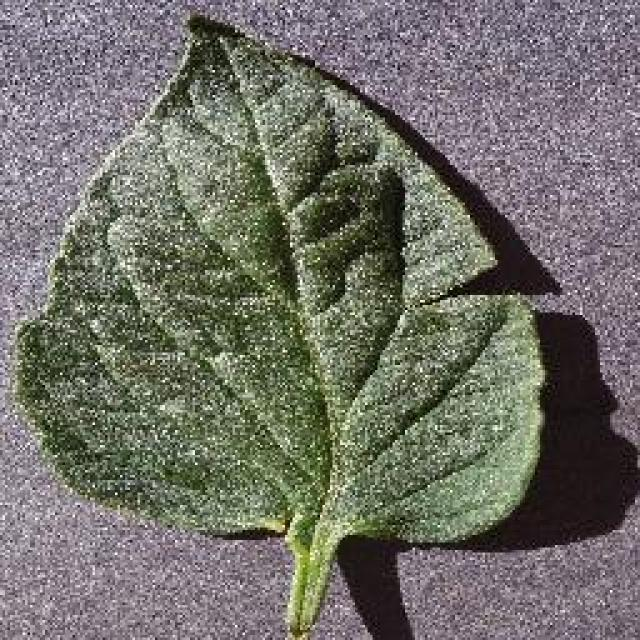Tomato_Healthy: (8, 21, 556, 548)
